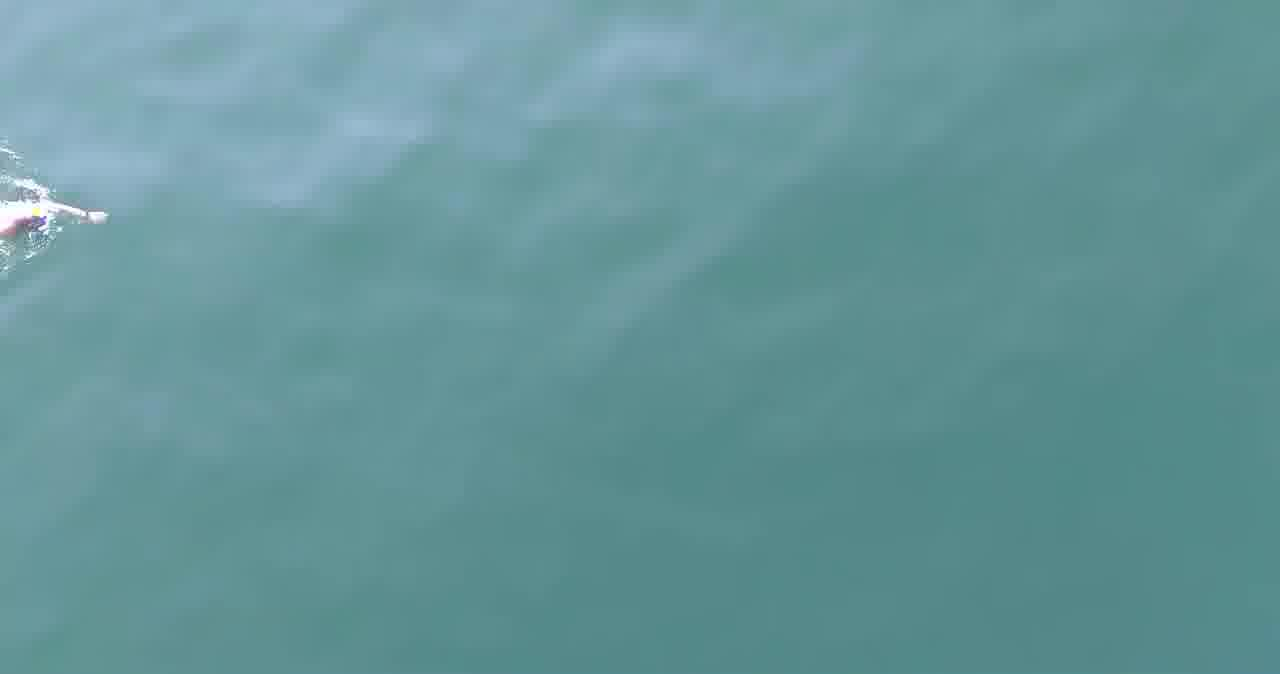human: (2, 186, 79, 260)
